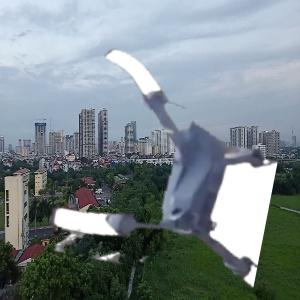drone: (53, 49, 277, 273)
